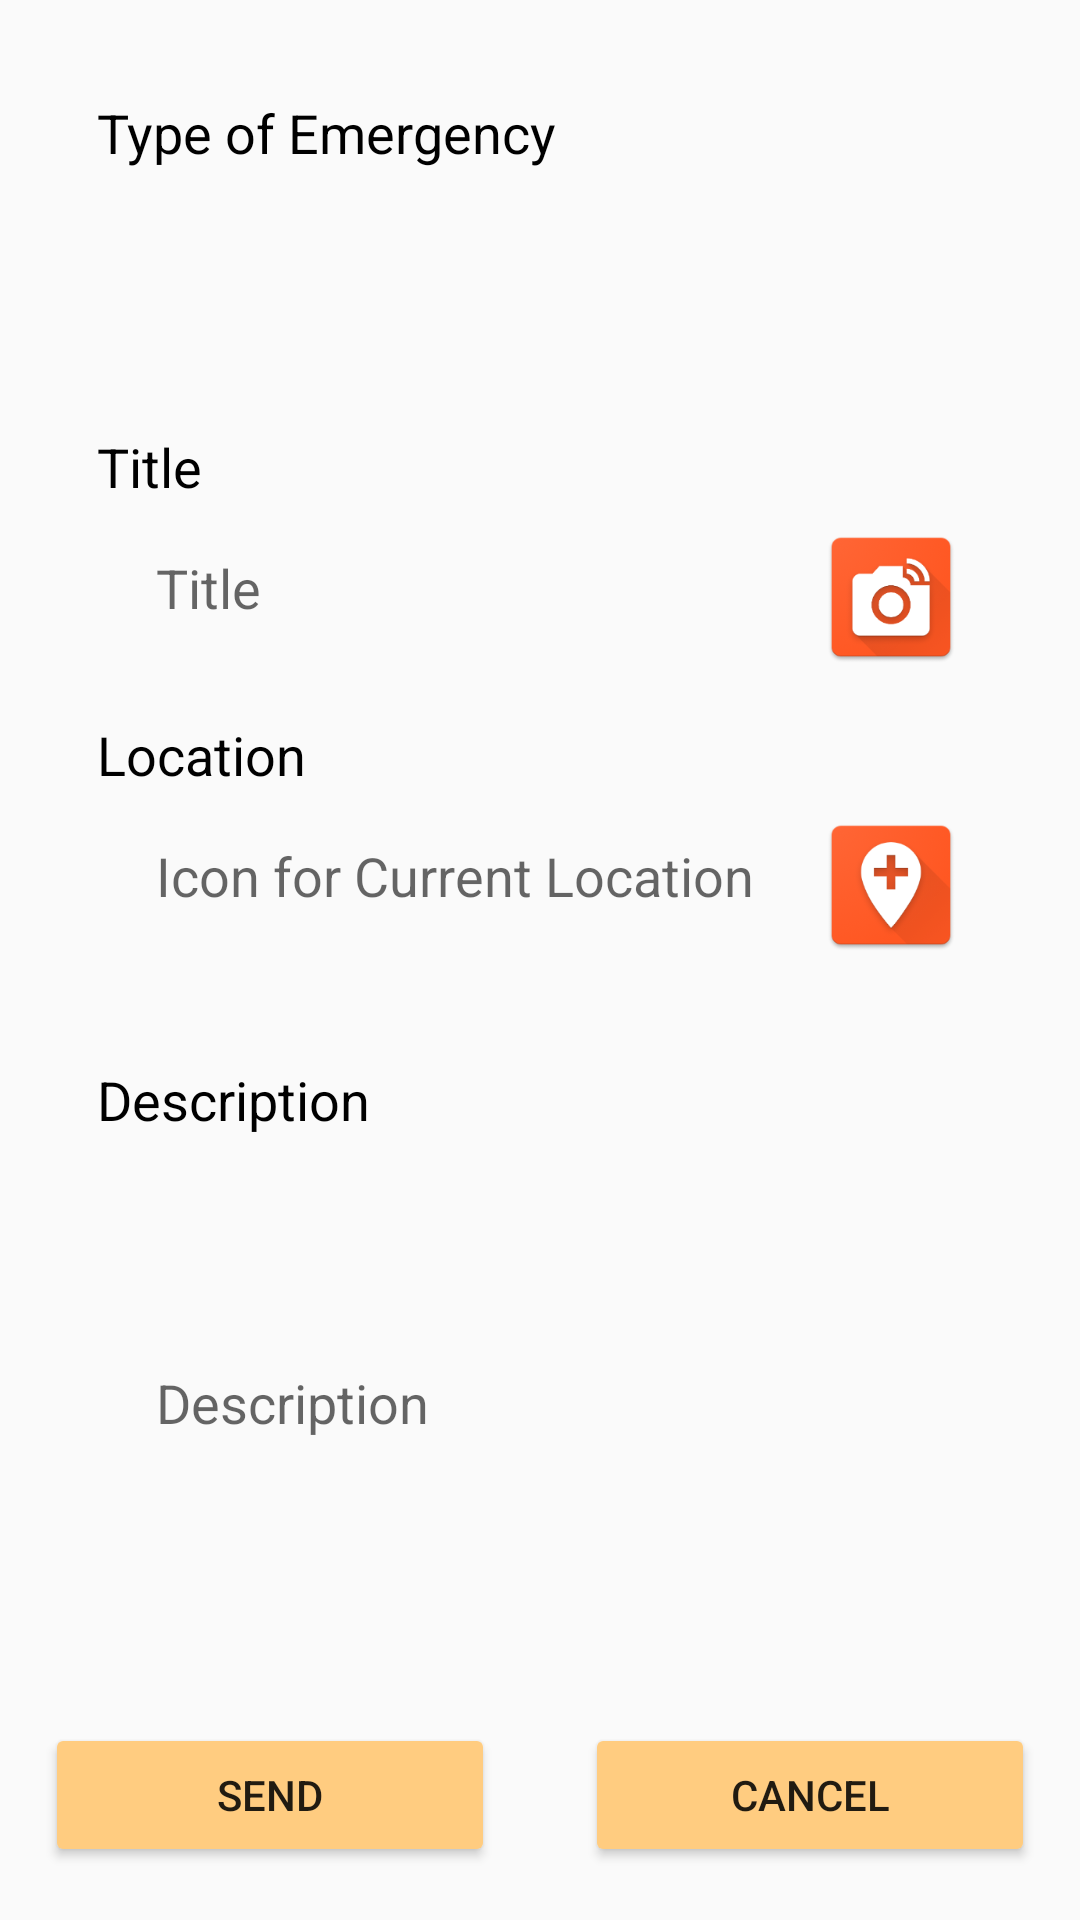

Named icons in this screenshot (1080px×1920px) and their centers, [x,y]:
camera: [891,598]
